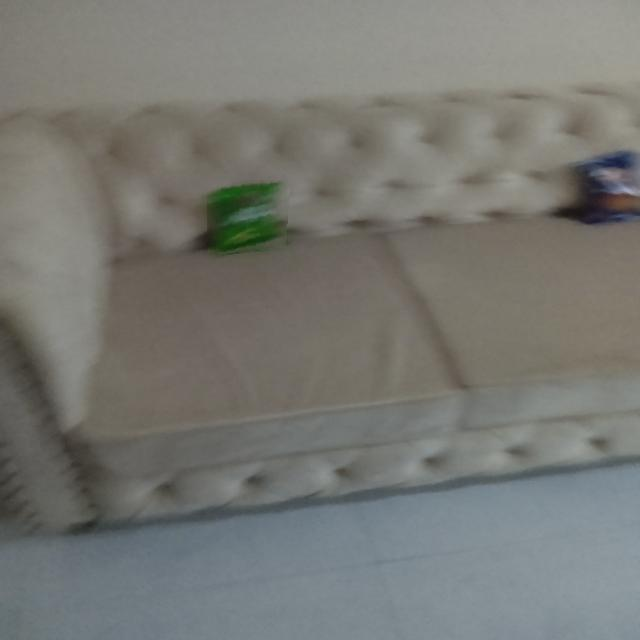Plastic: (208, 180, 292, 256)
